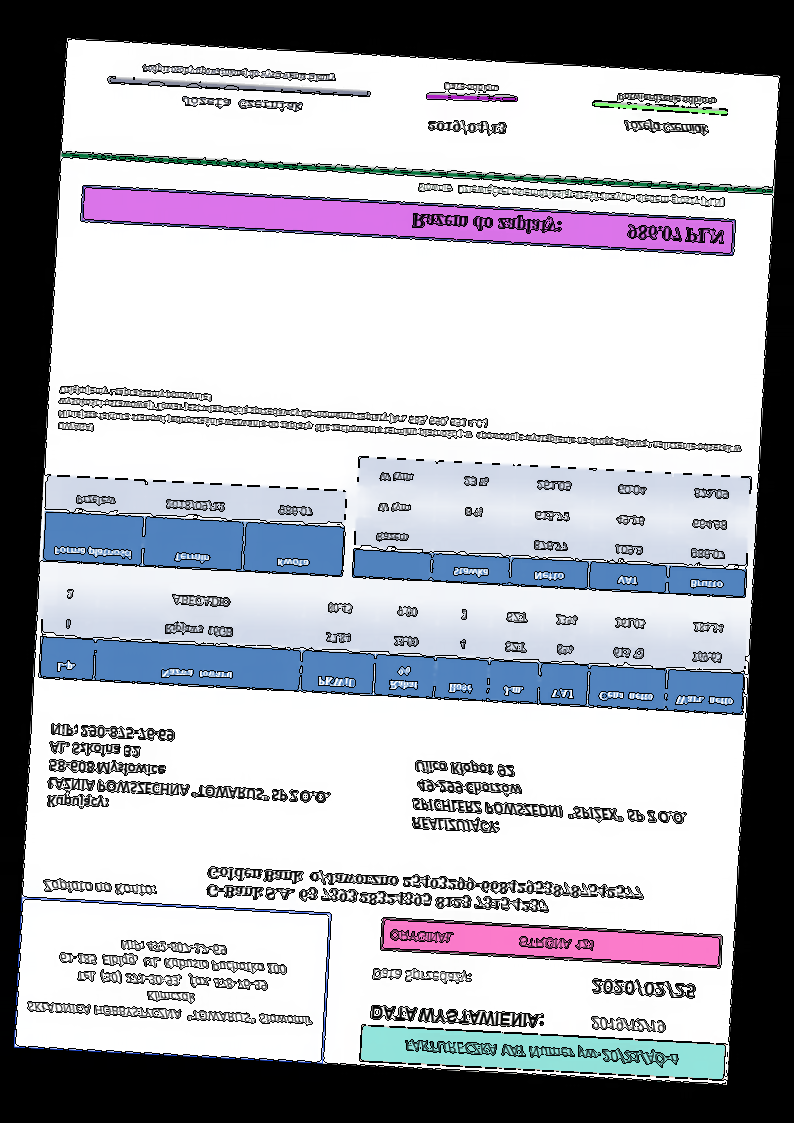Table: (37, 571, 748, 718), (352, 454, 754, 599), (41, 472, 347, 578)
TextBox: (55, 381, 745, 470), (44, 721, 335, 826), (22, 931, 320, 1032), (203, 859, 646, 925), (409, 756, 692, 848), (409, 208, 726, 249), (400, 1034, 683, 1073), (415, 178, 729, 212), (386, 926, 599, 956), (367, 1001, 547, 1033), (139, 62, 338, 87), (589, 976, 699, 1004), (370, 963, 474, 990), (42, 878, 158, 902), (179, 95, 304, 115), (587, 1013, 670, 1039), (619, 117, 711, 140), (424, 115, 508, 140), (615, 89, 720, 109), (440, 80, 501, 97)
